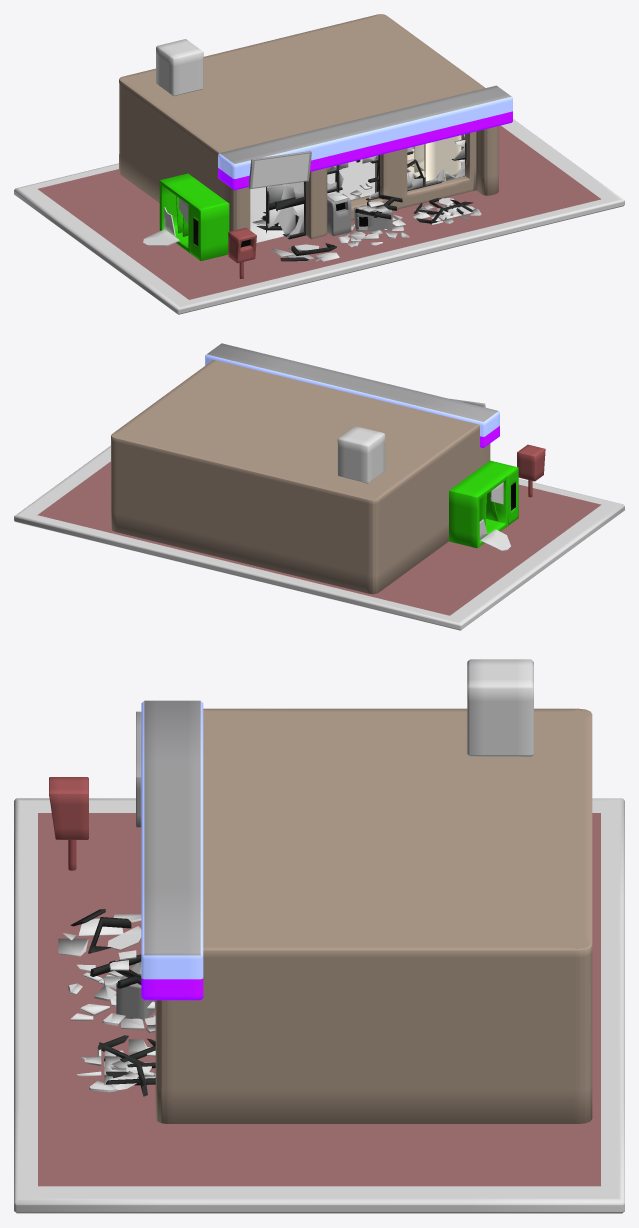
The model's file is Store_Inside_Rondv3.fbx.
3 renders of one model, top to bottom at view 1: azimuth 30°, elevation 25°; view 2: azimuth 150°, elevation 25°; view 3: azimuth 270°, elevation 25°, orthographic. The views are drawn at different scales.
Visible parts, largest first — view 1: Frot_wall, Plane.001, Light_Purple_Blue, Cube.013, Cube, Floor, Name_Sign, Cube.015, Cube.026_cell, Cube.033_cell, Cylinder, Trash_can.001 (+8 smaller); view 2: Frot_wall, Plane.001, Light_Purple_Blue, Cube.013, Cube, Cylinder, Cube.014_cell; view 3: Frot_wall, Plane.001, Light_Purple_Blue, Cube, Cube.026_cell, Cylinder, Cube.037_cell.002, Cube.023_cell.004, Trash_can, Cube.022_cell.001.
Boxes of the visible parts, bbox=[...] form: Frot_wall: bbox=[119, 14, 498, 239]; Plane.001: bbox=[14, 119, 624, 314]; Light_Purple_Blue: bbox=[218, 85, 512, 190]; Cube.013: bbox=[159, 173, 229, 260]; Cube: bbox=[156, 39, 203, 96]; Floor: bbox=[250, 159, 374, 242]; Name_Sign: bbox=[248, 151, 311, 188]; Cube.015: bbox=[407, 135, 461, 181]; Cube.026_cell: bbox=[413, 198, 481, 224]; Cube.033_cell: bbox=[266, 184, 297, 236]; Cylinder: bbox=[228, 227, 256, 278]; Trash_can.001: bbox=[327, 194, 351, 236]; Frot_wall: bbox=[111, 360, 490, 594]; Plane.001: bbox=[14, 445, 624, 630]; Light_Purple_Blue: bbox=[205, 343, 499, 447]; Cube.013: bbox=[449, 460, 518, 548]; Cube: bbox=[337, 426, 385, 483]; Cylinder: bbox=[517, 444, 545, 497]; Cube.014_cell: bbox=[479, 482, 510, 550]; Frot_wall: bbox=[155, 708, 592, 1123]; Plane.001: bbox=[14, 798, 624, 1213]; Light_Purple_Blue: bbox=[141, 700, 203, 1000]; Cube: bbox=[467, 659, 533, 756]; Cube.026_cell: bbox=[76, 1035, 155, 1096]; Cylinder: bbox=[49, 777, 88, 870]; Cube.037_cell.002: bbox=[58, 909, 141, 956]; Cube.023_cell.004: bbox=[68, 964, 155, 1033]; Trash_can: bbox=[116, 962, 155, 1020]; Cube.022_cell.001: bbox=[90, 950, 141, 988].
Size of the model in its own units: 1707 by 507 by 1087.
